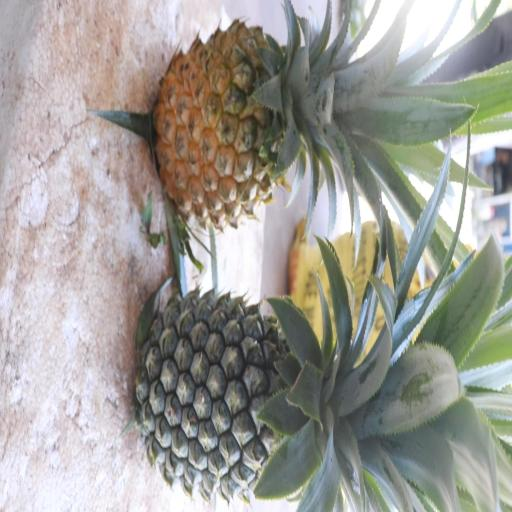Pineapple - v8 v1: (153, 30, 438, 225)
